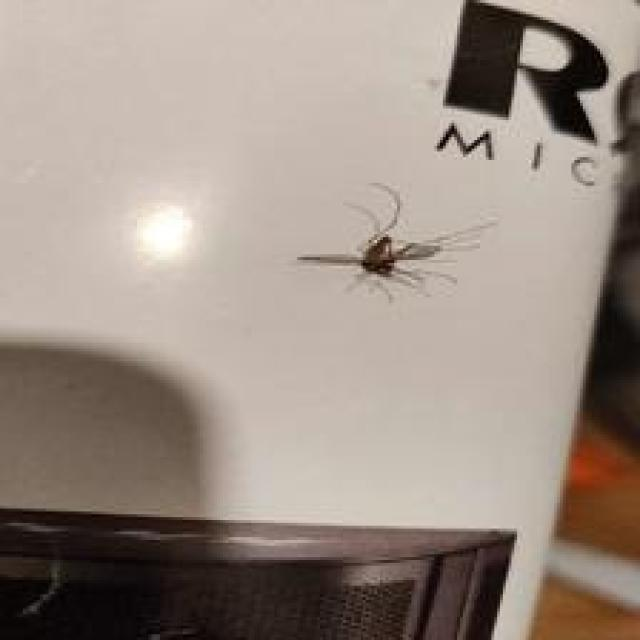Culex: (296, 180, 496, 303)
